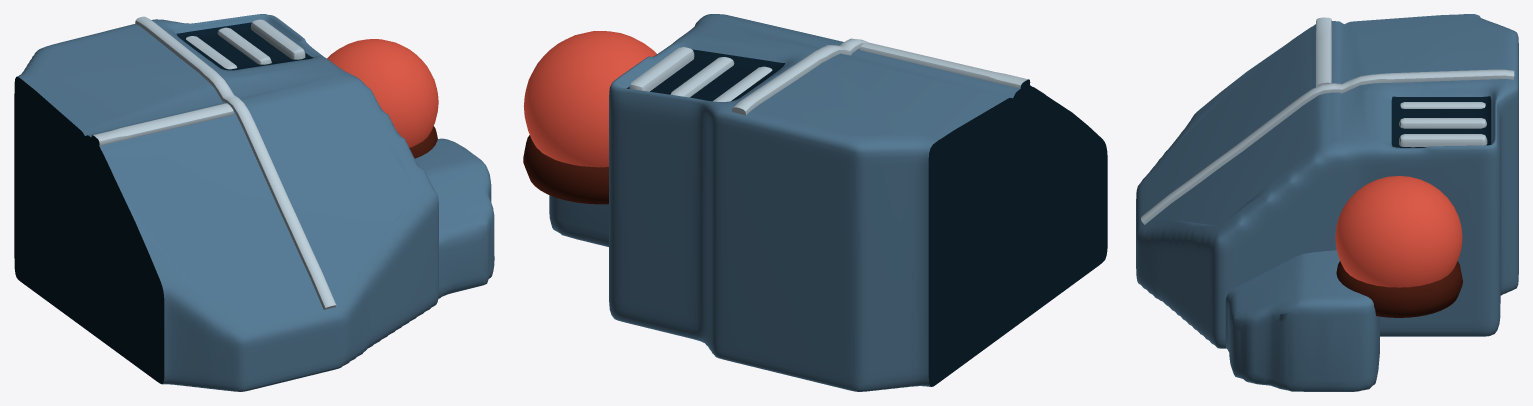
File: arm_ball_right.glb
3 views of the same model, side by side, from view 1: azimuth 30°, elevation 25°; view 2: azimuth 150°, elevation 25°; view 3: azimuth 270°, elevation 25° (orthographic). The views are drawn at different scales.
Parts seen in each view (by area): view 1: housing-1.001, jaw-1.001, ball-1.001, ridge-1.001, crease-1.001, fin-1_0.001, fin-1_1.001, fin-1_2.001; view 2: housing-1.001, ball-1.001, collar-1.001, jaw-1.001, ridge-1.001, crease-1.001, fin-1_0.001, fin-1_1.001, fin-1_2.001; view 3: housing-1.001, jaw-1.001, ball-1.001, ridge-1.001, collar-1.001, fin-1_0.001, crease-1.001, fin-1_1.001, fin-1_2.001.
Boxes of the visible parts, bbox=[...] form: housing-1.001: bbox=[14, 14, 438, 391]; jaw-1.001: bbox=[415, 138, 494, 298]; ball-1.001: bbox=[327, 39, 438, 147]; ridge-1.001: bbox=[135, 16, 336, 309]; crease-1.001: bbox=[91, 103, 233, 148]; fin-1_0.001: bbox=[251, 19, 305, 59]; fin-1_1.001: bbox=[217, 27, 271, 64]; fin-1_2.001: bbox=[186, 36, 237, 69]; housing-1.001: bbox=[609, 14, 1107, 391]; ball-1.001: bbox=[523, 31, 656, 167]; collar-1.001: bbox=[523, 135, 608, 204]; jaw-1.001: bbox=[549, 195, 608, 246]; ridge-1.001: bbox=[731, 38, 867, 115]; crease-1.001: bbox=[860, 42, 1030, 94]; fin-1_0.001: bbox=[629, 47, 694, 91]; fin-1_1.001: bbox=[670, 57, 734, 97]; fin-1_2.001: bbox=[713, 66, 772, 101]; housing-1.001: bbox=[1136, 14, 1518, 348]; jaw-1.001: bbox=[1225, 250, 1379, 391]; ball-1.001: bbox=[1335, 176, 1462, 287]; ridge-1.001: bbox=[1141, 69, 1514, 224]; collar-1.001: bbox=[1336, 261, 1462, 317]; fin-1_0.001: bbox=[1399, 134, 1487, 147]; crease-1.001: bbox=[1316, 17, 1331, 86]; fin-1_1.001: bbox=[1399, 118, 1486, 128]; fin-1_2.001: bbox=[1400, 102, 1485, 108].
Bounding box in the file's own units: 22.67 × 12.21 × 20.17.
